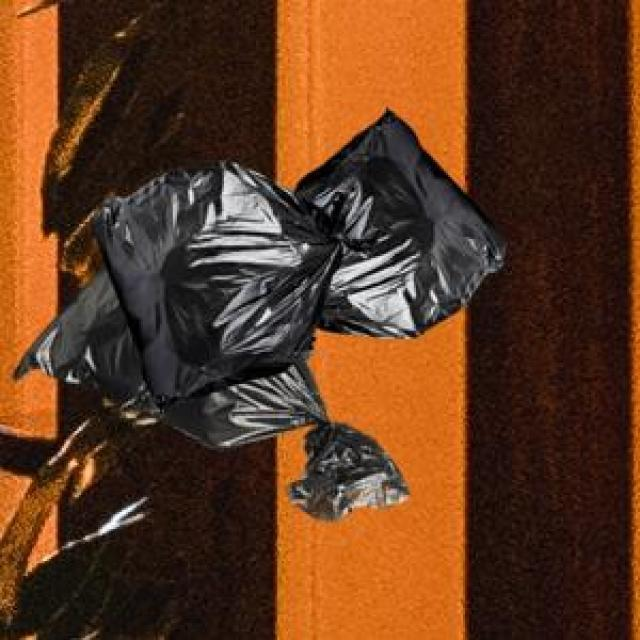waste: (16, 111, 505, 516)
